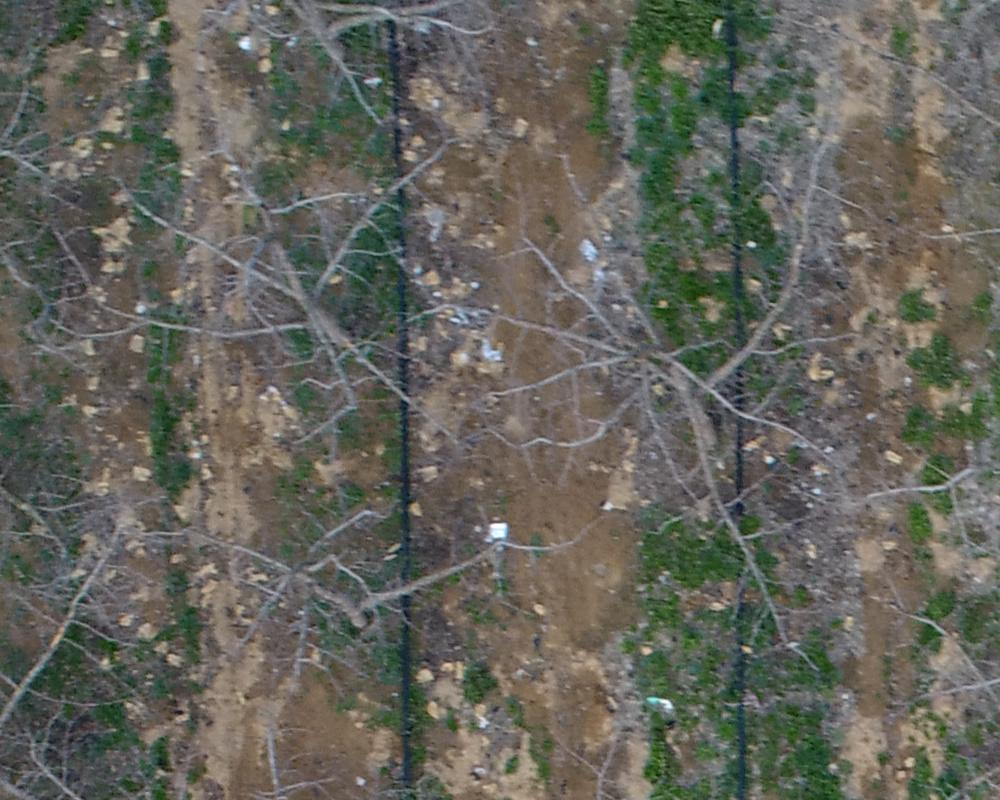apple: (437, 200, 850, 622), (57, 144, 494, 475), (119, 482, 508, 685)
